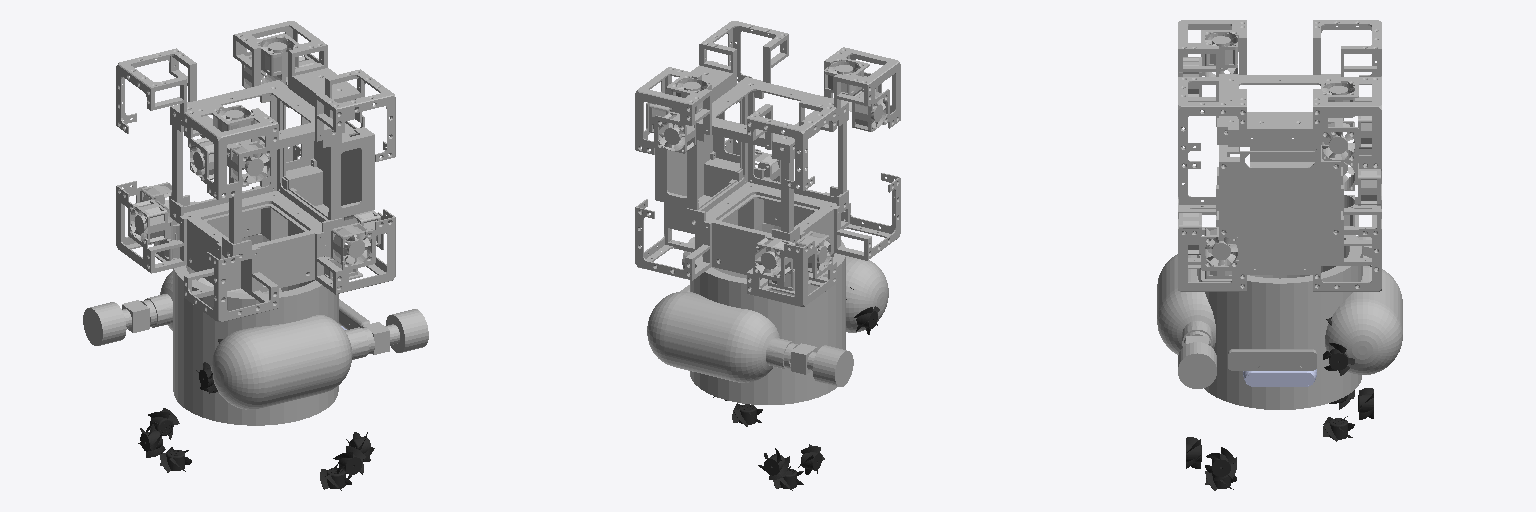
URDF robot description (HRA_description):
<?xml version="1.0" encoding="utf-8"?>
<!-- This URDF was automatically created by SolidWorks to URDF Exporter! Originally created by Stephen Brawner (brawner@gmail.com) 
     Commit Version: 1.6.0-4-g7f85cfe  Build Version: 1.6.7995.38578
     For more information, please see http://wiki.ros.org/sw_urdf_exporter -->
<robot
  name="HRA_description">
  <link
    name="base_link">
    <!-- 删除：原 base_link 惯性 -->
    <visual>
      <origin
        xyz="0 0 0"
        rpy="0 0 0" />
      <geometry>
        <mesh
          filename="package://HRA_description/meshes/base_link.STL" />
      </geometry>
      <material
        name="">
        <color
          rgba="0.75294 0.75294 0.75294 1" />
      </material>
    </visual>
    <collision>
      <origin
        xyz="0 0 0"
        rpy="0 0 0" />
      <geometry>
        <mesh
          filename="package://HRA_description/meshes/base_link.STL" />
      </geometry>
    </collision>
  </link>
  
  <!-- 新增：虚拟子链接 dummy_link 承载原 base_link 惯性 -->
  <link name="dummy_link">
    <inertial>
      <origin
        xyz="0.001036 -0.001377 -0.012817"
        rpy="0 0 0" />
      <mass
        value="3.4296" />
      <inertia
        ixx="0.0081806"
        ixy="2.5668E-07"
        ixz="3.2733E-06"
        iyy="0.010474"
        iyz="1.5189E-06"
        izz="0.011973" />
    </inertial>
  </link>

  <!-- 新增：固定关节，把 dummy_link 刚性挂载到 base_link -->
  <joint name="base_to_dummy" type="fixed">
    <parent link="base_link"/>
    <child  link="dummy_link"/>
    <origin xyz="0 0 0" rpy="0 0 0"/>
  </joint>
  
  <link
    name="LX+_Link">
    <inertial>
      <origin
        xyz="-1.8519E-10 -2.9906E-10 -0.017338"
        rpy="0 0 0" />
      <mass
        value="0.039411" />
      <inertia
        ixx="2.5177E-06"
        ixy="1.1922E-14"
        ixz="-1.4822E-13"
        iyy="2.5177E-06"
        iyz="7.8541E-15"
        izz="2.7426E-06" />
    </inertial>
    <visual>
      <origin
        xyz="0 0 0"
        rpy="0 0 0" />
      <geometry>
        <mesh
          filename="package://HRA_description/meshes/LX+_Link.STL" />
      </geometry>
      <material
        name="">
        <color
          rgba="0.22353 0.22353 0.22353 1" />
      </material>
    </visual>
    <collision>
      <origin
        xyz="0 0 0"
        rpy="0 0 0" />
      <geometry>
        <mesh
          filename="package://HRA_description/meshes/LX+_Link.STL" />
      </geometry>
    </collision>
  </link>
  <joint
    name="LX+_joint"
    type="fixed">
    <origin
      xyz="0.122 0.071 0.071"
      rpy="1.5708 0 1.5708" />
    <parent
      link="base_link" />
    <child
      link="LX+_Link" />
    <axis
      xyz="0 0 -1" />
  </joint>
  <link
    name="LX-_Link">
    <inertial>
      <origin
        xyz="-1.8519E-10 -2.9906E-10 -0.017338"
        rpy="0 0 0" />
      <mass
        value="0.039411" />
      <inertia
        ixx="2.5177E-06"
        ixy="1.1922E-14"
        ixz="-1.4822E-13"
        iyy="2.5177E-06"
        iyz="7.8541E-15"
        izz="2.7426E-06" />
    </inertial>
    <visual>
      <origin
        xyz="0 0 0"
        rpy="0 0 0" />
      <geometry>
        <mesh
          filename="package://HRA_description/meshes/LX-_Link.STL" />
      </geometry>
      <material
        name="">
        <color
          rgba="0.22353 0.22353 0.22353 1" />
      </material>
    </visual>
    <collision>
      <origin
        xyz="0 0 0"
        rpy="0 0 0" />
      <geometry>
        <mesh
          filename="package://HRA_description/meshes/LX-_Link.STL" />
      </geometry>
    </collision>
  </link>
  <joint
    name="LX-_joint"
    type="fixed">
    <origin
      xyz="-0.122 0.071 -0.071"
      rpy="1.5708 0 -1.5708" />
    <parent
      link="base_link" />
    <child
      link="LX-_Link" />
    <axis
      xyz="0 0 -1" />
  </joint>
  <link
    name="RX+_Link">
    <inertial>
      <origin
        xyz="1.8519E-10 2.9906E-10 -0.017338"
        rpy="0 0 0" />
      <mass
        value="0.039411" />
      <inertia
        ixx="2.5177E-06"
        ixy="1.1922E-14"
        ixz="1.4822E-13"
        iyy="2.5177E-06"
        iyz="-7.8541E-15"
        izz="2.7426E-06" />
    </inertial>
    <visual>
      <origin
        xyz="0 0 0"
        rpy="0 0 0" />
      <geometry>
        <mesh
          filename="package://HRA_description/meshes/RX+_Link.STL" />
      </geometry>
      <material
        name="">
        <color
          rgba="0.22353 0.22353 0.22353 1" />
      </material>
    </visual>
    <collision>
      <origin
        xyz="0 0 0"
        rpy="0 0 0" />
      <geometry>
        <mesh
          filename="package://HRA_description/meshes/RX+_Link.STL" />
      </geometry>
    </collision>
  </link>
  <joint
    name="RX+_joint"
    type="fixed">
    <origin
      xyz="0.122 -0.071 -0.071"
      rpy="1.5708 0 1.5708" />
    <parent
      link="base_link" />
    <child
      link="RX+_Link" />
    <axis
      xyz="0 0 -1" />
  </joint>
  <link
    name="RX-_Link">
    <inertial>
      <origin
        xyz="1.852E-10 2.9906E-10 -0.017338"
        rpy="0 0 0" />
      <mass
        value="0.039411" />
      <inertia
        ixx="2.5177E-06"
        ixy="1.1922E-14"
        ixz="1.4822E-13"
        iyy="2.5177E-06"
        iyz="-7.8541E-15"
        izz="2.7426E-06" />
    </inertial>
    <visual>
      <origin
        xyz="0 0 0"
        rpy="0 0 0" />
      <geometry>
        <mesh
          filename="package://HRA_description/meshes/RX-_Link.STL" />
      </geometry>
      <material
        name="">
        <color
          rgba="0.22353 0.22353 0.22353 1" />
      </material>
    </visual>
    <collision>
      <origin
        xyz="0 0 0"
        rpy="0 0 0" />
      <geometry>
        <mesh
          filename="package://HRA_description/meshes/RX-_Link.STL" />
      </geometry>
    </collision>
  </link>
  <joint
    name="RX-_joint"
    type="fixed">
    <origin
      xyz="-0.122 -0.071 0.071"
      rpy="1.5708 0 -1.5708" />
    <parent
      link="base_link" />
    <child
      link="RX-_Link" />
    <axis
      xyz="0 0 -1" />
  </joint>
  <link
    name="FY+_Link">
    <inertial>
      <origin
        xyz="-1.852E-10 -2.9906E-10 -0.017338"
        rpy="0 0 0" />
      <mass
        value="0.039411" />
      <inertia
        ixx="2.5177E-06"
        ixy="1.1922E-14"
        ixz="-1.4822E-13"
        iyy="2.5177E-06"
        iyz="7.8541E-15"
        izz="2.7426E-06" />
    </inertial>
    <visual>
      <origin
        xyz="0 0 0"
        rpy="0 0 0" />
      <geometry>
        <mesh
          filename="package://HRA_description/meshes/FY+_Link.STL" />
      </geometry>
      <material
        name="">
        <color
          rgba="0.22353 0.22353 0.22353 1" />
      </material>
    </visual>
    <collision>
      <origin
        xyz="0 0 0"
        rpy="0 0 0" />
      <geometry>
        <mesh
          filename="package://HRA_description/meshes/FY+_Link.STL" />
      </geometry>
    </collision>
  </link>
  <joint
    name="FY+_joint"
    type="fixed">
    <origin
      xyz="0.071 0.122 0.071"
      rpy="1.5708 0 3.1416" />
    <parent
      link="base_link" />
    <child
      link="FY+_Link" />
    <axis
      xyz="0 0 -1" />
  </joint>
  <link
    name="FY-_Link">
    <inertial>
      <origin
        xyz="1.852E-10 2.9906E-10 -0.017338"
        rpy="0 0 0" />
      <mass
        value="0.039411" />
      <inertia
        ixx="2.5177E-06"
        ixy="1.1922E-14"
        ixz="1.4822E-13"
        iyy="2.5177E-06"
        iyz="-7.8541E-15"
        izz="2.7426E-06" />
    </inertial>
    <visual>
      <origin
        xyz="0 0 0"
        rpy="0 0 0" />
      <geometry>
        <mesh
          filename="package://HRA_description/meshes/FY-_Link.STL" />
      </geometry>
      <material
        name="">
        <color
          rgba="0.22353 0.22353 0.22353 1" />
      </material>
    </visual>
    <collision>
      <origin
        xyz="0 0 0"
        rpy="0 0 0" />
      <geometry>
        <mesh
          filename="package://HRA_description/meshes/FY-_Link.STL" />
      </geometry>
    </collision>
  </link>
  <joint
    name="FY-_joint"
    type="fixed">
    <origin
      xyz="0.071 -0.122 -0.071"
      rpy="1.5708 0 0" />
    <parent
      link="base_link" />
    <child
      link="FY-_Link" />
    <axis
      xyz="0 0 -1" />
  </joint>
  <link
    name="AY+_Link">
    <inertial>
      <origin
        xyz="-2.9906E-10 1.852E-10 -0.017338"
        rpy="0 0 0" />
      <mass
        value="0.039411" />
      <inertia
        ixx="2.5177E-06"
        ixy="-1.1922E-14"
        ixz="7.8541E-15"
        iyy="2.5177E-06"
        iyz="1.4822E-13"
        izz="2.7426E-06" />
    </inertial>
    <visual>
      <origin
        xyz="0 0 0"
        rpy="0 0 0" />
      <geometry>
        <mesh
          filename="package://HRA_description/meshes/AY+_Link.STL" />
      </geometry>
      <material
        name="">
        <color
          rgba="0.22353 0.22353 0.22353 1" />
      </material>
    </visual>
    <collision>
      <origin
        xyz="0 0 0"
        rpy="0 0 0" />
      <geometry>
        <mesh
          filename="package://HRA_description/meshes/AY+_Link.STL" />
      </geometry>
    </collision>
  </link>
  <joint
    name="AY+_joint"
    type="fixed">
    <origin
      xyz="-0.071 0.122 -0.071"
      rpy="1.5708 0 3.1416" />
    <parent
      link="base_link" />
    <child
      link="AY+_Link" />
    <axis
      xyz="0 0 -1" />
  </joint>
  <link
    name="AY-_Link">
    <inertial>
      <origin
        xyz="2.9906E-10 -1.852E-10 -0.017338"
        rpy="0 0 0" />
      <mass
        value="0.039411" />
      <inertia
        ixx="2.5177E-06"
        ixy="-1.1922E-14"
        ixz="-7.8541E-15"
        iyy="2.5177E-06"
        iyz="-1.4822E-13"
        izz="2.7426E-06" />
    </inertial>
    <visual>
      <origin
        xyz="0 0 0"
        rpy="0 0 0" />
      <geometry>
        <mesh
          filename="package://HRA_description/meshes/AY-_Link.STL" />
      </geometry>
      <material
        name="">
        <color
          rgba="0.22353 0.22353 0.22353 1" />
      </material>
    </visual>
    <collision>
      <origin
        xyz="0 0 0"
        rpy="0 0 0" />
      <geometry>
        <mesh
          filename="package://HRA_description/meshes/AY-_Link.STL" />
      </geometry>
    </collision>
  </link>
  <joint
    name="AY-_joint"
    type="fixed">
    <origin
      xyz="-0.071 -0.122 0.071"
      rpy="1.5708 0 0" />
    <parent
      link="base_link" />
    <child
      link="AY-_Link" />
    <axis
      xyz="0 0 -1" />
  </joint>
  <link
    name="LZ+_Link">
    <inertial>
      <origin
        xyz="2.9906E-10 -1.852E-10 -0.017338"
        rpy="0 0 0" />
      <mass
        value="0.039411" />
      <inertia
        ixx="2.5177E-06"
        ixy="-1.1922E-14"
        ixz="-7.8541E-15"
        iyy="2.5177E-06"
        iyz="-1.4822E-13"
        izz="2.7426E-06" />
    </inertial>
    <visual>
      <origin
        xyz="0 0 0"
        rpy="0 0 0" />
      <geometry>
        <mesh
          filename="package://HRA_description/meshes/LZ+_Link.STL" />
      </geometry>
      <material
        name="">
        <color
          rgba="0.22353 0.22353 0.22353 1" />
      </material>
    </visual>
    <collision>
      <origin
        xyz="0 0 0"
        rpy="0 0 0" />
      <geometry>
        <mesh
          filename="package://HRA_description/meshes/LZ+_Link.STL" />
      </geometry>
    </collision>
  </link>
  <joint
    name="LZ+_joint"
    type="fixed">
    <origin
      xyz="0.071 0.071 0.122"
      rpy="0 0 1.5708" />
    <parent
      link="base_link" />
    <child
      link="LZ+_Link" />
    <axis
      xyz="0 0 -1" />
  </joint>
  <link
    name="LZ-_Link">
    <inertial>
      <origin
        xyz="-1.852E-10 -2.9906E-10 -0.017338"
        rpy="0 0 0" />
      <mass
        value="0.039411" />
      <inertia
        ixx="2.5177E-06"
        ixy="1.1922E-14"
        ixz="-1.4822E-13"
        iyy="2.5177E-06"
        iyz="7.8541E-15"
        izz="2.7426E-06" />
    </inertial>
    <visual>
      <origin
        xyz="0 0 0"
        rpy="0 0 0" />
      <geometry>
        <mesh
          filename="package://HRA_description/meshes/LZ-_Link.STL" />
      </geometry>
      <material
        name="">
        <color
          rgba="0.22353 0.22353 0.22353 1" />
      </material>
    </visual>
    <collision>
      <origin
        xyz="0 0 0"
        rpy="0 0 0" />
      <geometry>
        <mesh
          filename="package://HRA_description/meshes/LZ-_Link.STL" />
      </geometry>
    </collision>
  </link>
  <joint
    name="LZ-_joint"
    type="fixed">
    <origin
      xyz="-0.071 0.071 -0.122"
      rpy="3.1416 0 -1.5708" />
    <parent
      link="base_link" />
    <child
      link="LZ-_Link" />
    <axis
      xyz="0 0 -1" />
  </joint>
  <link
    name="RZ+_Link">
    <inertial>
      <origin
        xyz="-1.852E-10 -2.9906E-10 -0.017338"
        rpy="0 0 0" />
      <mass
        value="0.039411" />
      <inertia
        ixx="2.5177E-06"
        ixy="1.1922E-14"
        ixz="-1.4822E-13"
        iyy="2.5177E-06"
        iyz="7.8541E-15"
        izz="2.7426E-06" />
    </inertial>
    <visual>
      <origin
        xyz="0 0 0"
        rpy="0 0 0" />
      <geometry>
        <mesh
          filename="package://HRA_description/meshes/RZ+_Link.STL" />
      </geometry>
      <material
        name="">
        <color
          rgba="0.22353 0.22353 0.22353 1" />
      </material>
    </visual>
    <collision>
      <origin
        xyz="0 0 0"
        rpy="0 0 0" />
      <geometry>
        <mesh
          filename="package://HRA_description/meshes/RZ+_Link.STL" />
      </geometry>
    </collision>
  </link>
  <joint
    name="RZ+_joint"
    type="fixed">
    <origin
      xyz="-0.071 -0.071 0.122"
      rpy="0 0 1.5708" />
    <parent
      link="base_link" />
    <child
      link="RZ+_Link" />
    <axis
      xyz="0 0 -1" />
  </joint>
  <link
    name="RZ-_Link">
    <inertial>
      <origin
        xyz="2.9906E-10 -1.852E-10 -0.017338"
        rpy="0 0 0" />
      <mass
        value="0.039411" />
      <inertia
        ixx="2.5177E-06"
        ixy="-1.1922E-14"
        ixz="-7.8541E-15"
        iyy="2.5177E-06"
        iyz="-1.4822E-13"
        izz="2.7426E-06" />
    </inertial>
    <visual>
      <origin
        xyz="0 0 0"
        rpy="0 0 0" />
      <geometry>
        <mesh
          filename="package://HRA_description/meshes/RZ-_Link.STL" />
      </geometry>
      <material
        name="">
        <color
          rgba="0.22353 0.22353 0.22353 1" />
      </material>
    </visual>
    <collision>
      <origin
        xyz="0 0 0"
        rpy="0 0 0" />
      <geometry>
        <mesh
          filename="package://HRA_description/meshes/RZ-_Link.STL" />
      </geometry>
    </collision>
  </link>
  <joint
    name="RZ-_joint"
    type="fixed">
    <origin
      xyz="0.071 -0.071 -0.122"
      rpy="-3.1416 0 -1.5708" />
    <parent
      link="base_link" />
    <child
      link="RZ-_Link" />
    <axis
      xyz="0 0 -1" />
  </joint>
  <link
    name="T265_Link">
    <inertial>
      <origin
        xyz="-0.001386 -0.0091923 -2.5634E-07"
        rpy="0 0 0" />
      <mass
        value="0.06" />
      <inertia
        ixx="6.1726E-05"
        ixy="3.3535E-08"
        ixz="-7.633E-11"
        iyy="3.6882E-06"
        iyz="1.473E-12"
        izz="5.9549E-05" />
    </inertial>
    <visual>
      <origin
        xyz="0 0 0"
        rpy="0 0 0" />
      <geometry>
        <mesh
          filename="package://HRA_description/meshes/T265_Link.STL" />
      </geometry>
      <material
        name="">
        <color
          rgba="0.7 0.7 0.7 1" />
      </material>
    </visual>
    <collision>
      <origin
        xyz="0 0 0"
        rpy="0 0 0" />
      <geometry>
        <mesh
          filename="package://HRA_description/meshes/T265_Link.STL" />
      </geometry>
    </collision>
  </link>
  <joint
    name="T265_joint"
    type="fixed">
    <origin
      xyz="0.1193 0 0.07625"
      rpy="0 0 0" />
    <parent
      link="base_link" />
    <child
      link="T265_Link" />
    <axis
      xyz="0 0 0" />
  </joint>
  <link
    name="D435i_Link">
    <inertial>
      <origin
        xyz="-0.001386 -0.0091923 -2.5634E-07"
        rpy="0 0 0" />
      <mass
        value="0.072" />
      <inertia
        ixx="6.1726E-05"
        ixy="3.3535E-08"
        ixz="-7.633E-11"
        iyy="3.6882E-06"
        iyz="1.473E-12"
        izz="5.9549E-05" />
    </inertial>
    <visual>
      <origin
        xyz="0 0 0"
        rpy="0 0 0" />
      <geometry>
        <mesh
          filename="package://HRA_description/meshes/D435i_Link.STL" />
      </geometry>
      <material
        name="">
        <color
          rgba="0.79216 0.81961 0.93333 1" />
      </material>
    </visual>
    <collision>
      <origin
        xyz="0 0 0"
        rpy="0 0 0" />
      <geometry>
        <mesh
          filename="package://HRA_description/meshes/D435i_Link.STL" />
      </geometry>
    </collision>
  </link>
  <joint
    name="D435i_joint"
    type="fixed">
    <origin
      xyz="0.11555 0.0175 0.0515"
      rpy="0 0 0" />
    <parent
      link="base_link" />
    <child
      link="D435i_Link" />
    <axis
      xyz="0 0 0" />
  </joint>
</robot>

--- What the picture shows (computed from the rendered views, not written in the file) ---
The picture shows the robot from 3 angles, left to right: view 1: azimuth 30°, elevation 25°; view 2: azimuth 150°, elevation 25°; view 3: azimuth 270°, elevation 25°; orthographic projection.
Model HRA_description with 16 links and 15 joints (15 fixed), rooted at base_link, posed every joint at zero.
Links seen in each view (by area): view 1: base_link, FY-_Link, LX-_Link, AY+_Link, LZ-_Link, T265_Link; view 2: base_link, AY+_Link; view 3: base_link, T265_Link, D435i_Link, RX+_Link, LX+_Link, LZ-_Link.
Link boxes in pixels (bbox=[...]): base_link: bbox=[83, 21, 428, 425]; FY-_Link: bbox=[333, 446, 365, 479]; LX-_Link: bbox=[138, 424, 165, 457]; AY+_Link: bbox=[146, 408, 179, 439]; LZ-_Link: bbox=[160, 447, 191, 472]; T265_Link: bbox=[339, 299, 369, 329]; base_link: bbox=[635, 21, 900, 404]; AY+_Link: bbox=[758, 448, 789, 479]; base_link: bbox=[1157, 20, 1402, 409]; T265_Link: bbox=[1228, 349, 1316, 370]; D435i_Link: bbox=[1243, 369, 1316, 386]; RX+_Link: bbox=[1205, 447, 1236, 480]; LX+_Link: bbox=[1323, 343, 1354, 375]; LZ-_Link: bbox=[1323, 416, 1354, 441].
Size in the robot's own frame: 0.34 by 0.2977 by 0.531 metres.
Meshes: 15 distinct files referenced, 15 mesh visuals loaded (15 binary STL).
